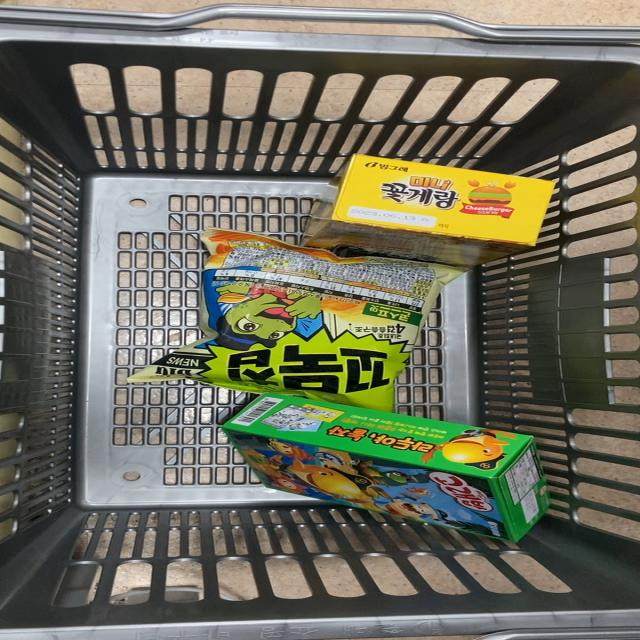ggobukchip: (147, 234, 437, 397)
goraebob: (219, 388, 555, 542)
minicrab: (301, 151, 565, 261)
